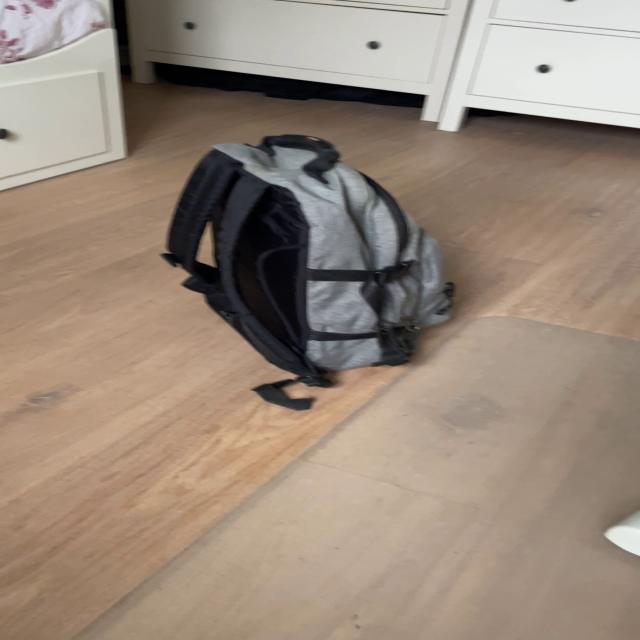backpack: (148, 117, 460, 385)
